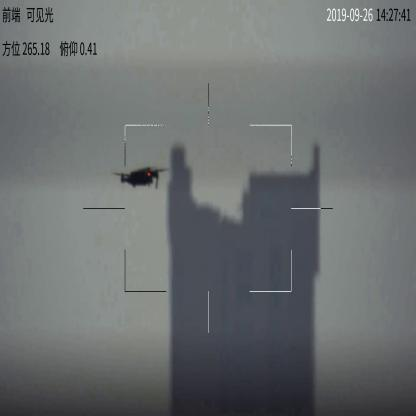uav: (111, 165, 167, 191)
